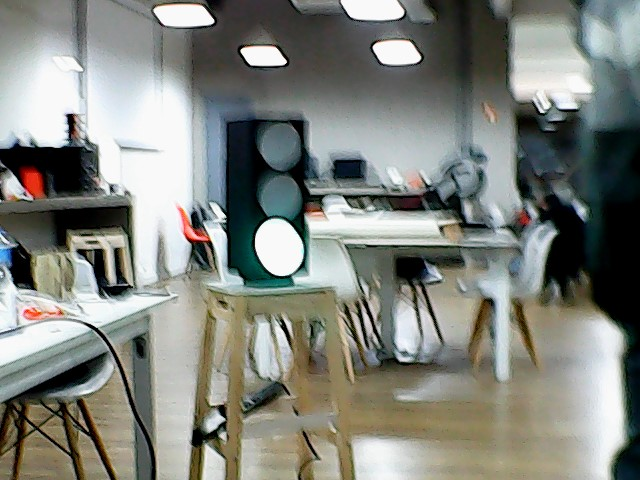verde: (220, 115, 316, 291)
